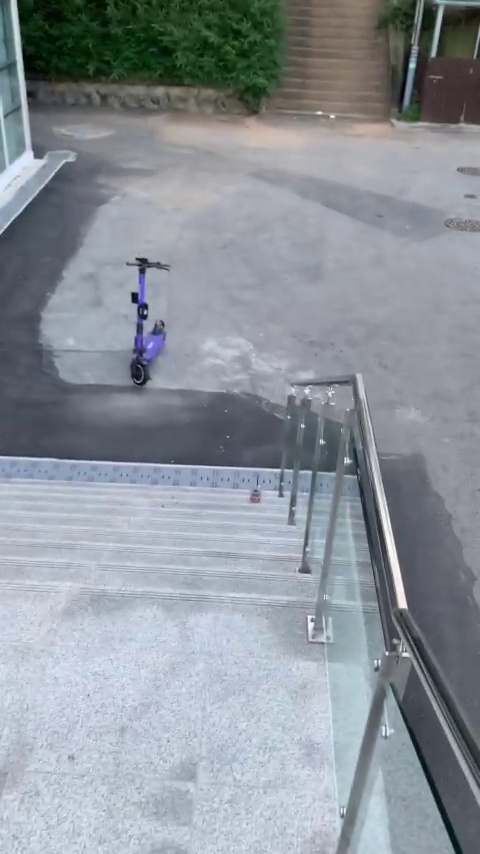beam: (110, 241, 175, 407)
